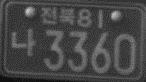0: (111, 32, 137, 75)
1: (95, 7, 105, 30)
3: (66, 29, 89, 72), (43, 29, 64, 70)
6: (90, 32, 111, 75)
8: (76, 7, 92, 29)
나: (10, 28, 37, 57)
전북_O: (40, 6, 74, 27)
